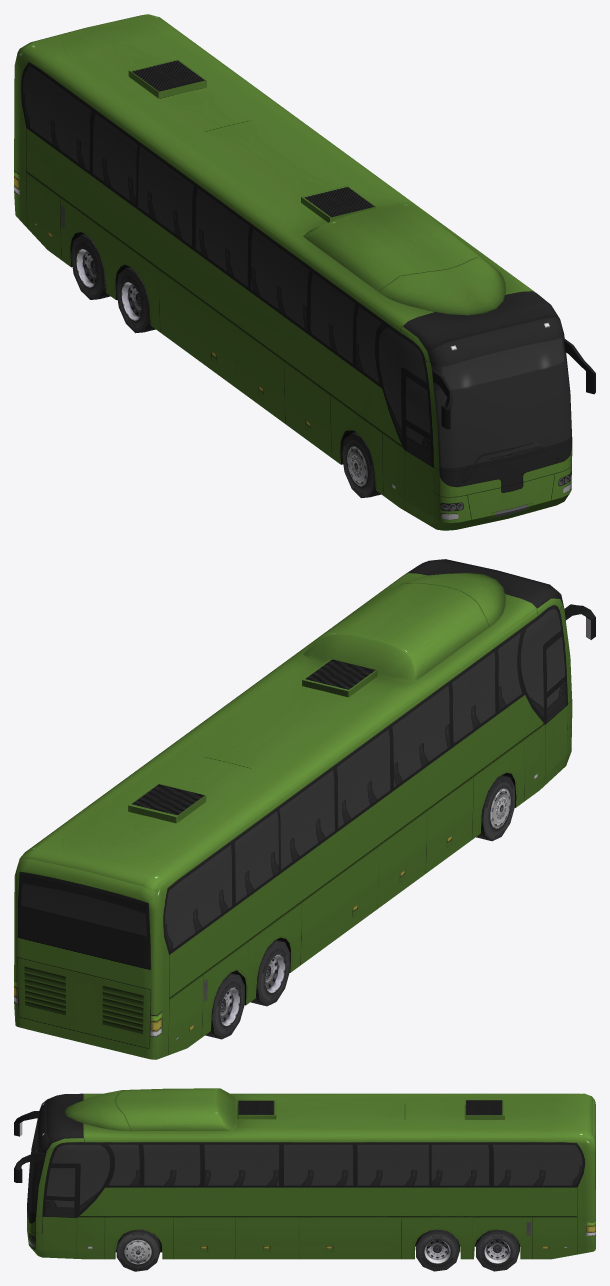
3 views of the same model, one above another, from view 1: azimuth 30°, elevation 25°; view 2: azimuth 150°, elevation 25°; view 3: azimuth 270°, elevation 25° (orthographic). The views are drawn at different scales.
Parts seen in each view (by area): view 1: Body, Wheel_BR_x0020_1, Wheel_BR_x0020_2, Wheel_FR; view 2: Body, Wheel_BR_x0020_2, Wheel_FR, Wheel_BR_x0020_1; view 3: Body, Wheel_FL, Wheel_BL_x0020_2, Wheel_BL_x0020_1.
Boxes of the visible parts, box(x1,y1,x2,y2) form: Body: box(14, 14, 595, 530); Wheel_BR_x0020_1: box(71, 234, 110, 299); Wheel_BR_x0020_2: box(116, 267, 155, 333); Wheel_FR: box(342, 432, 380, 498); Body: box(14, 559, 595, 1059); Wheel_BR_x0020_2: box(251, 940, 290, 1006); Wheel_FR: box(476, 775, 515, 841); Wheel_BR_x0020_1: box(205, 973, 244, 1039); Body: box(14, 1088, 595, 1259); Wheel_FL: box(116, 1229, 160, 1271); Wheel_BL_x0020_2: box(416, 1229, 459, 1271); Wheel_BL_x0020_1: box(476, 1229, 519, 1271).
Size of the model in its own units: 571 by 822 by 2889.
